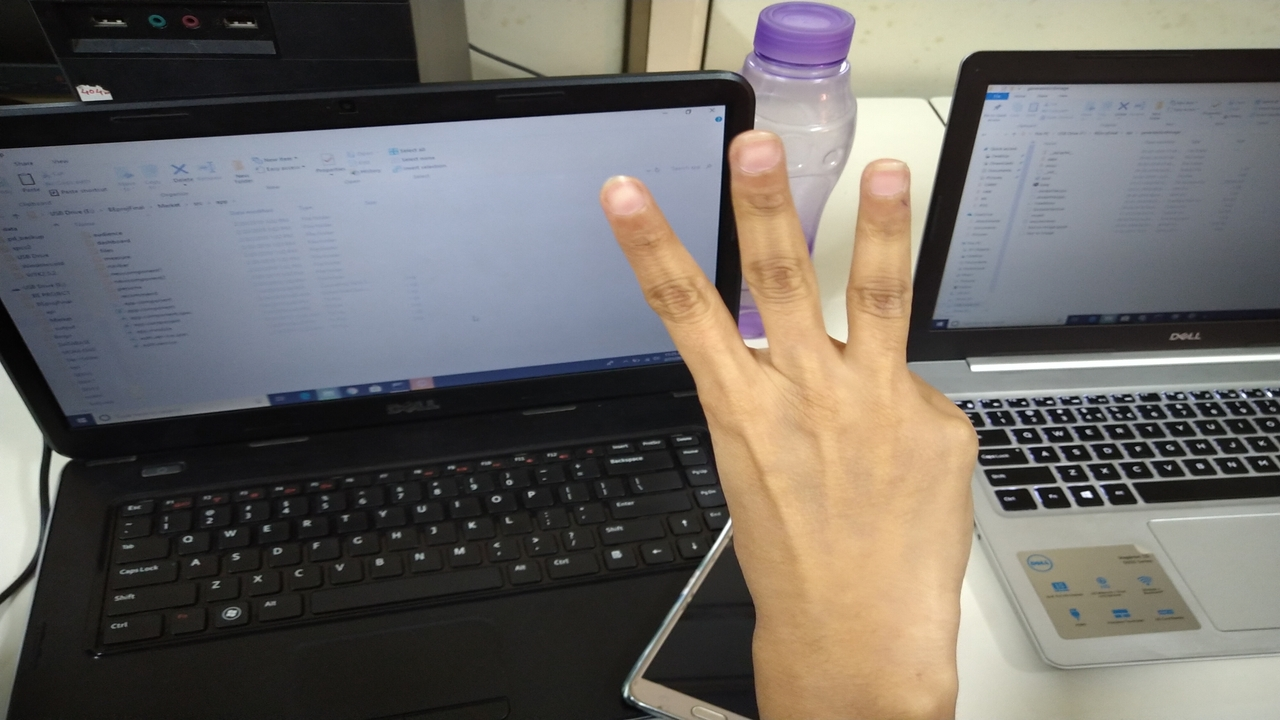fingertip: (724, 120, 788, 188), (592, 166, 660, 224), (858, 148, 918, 208)
